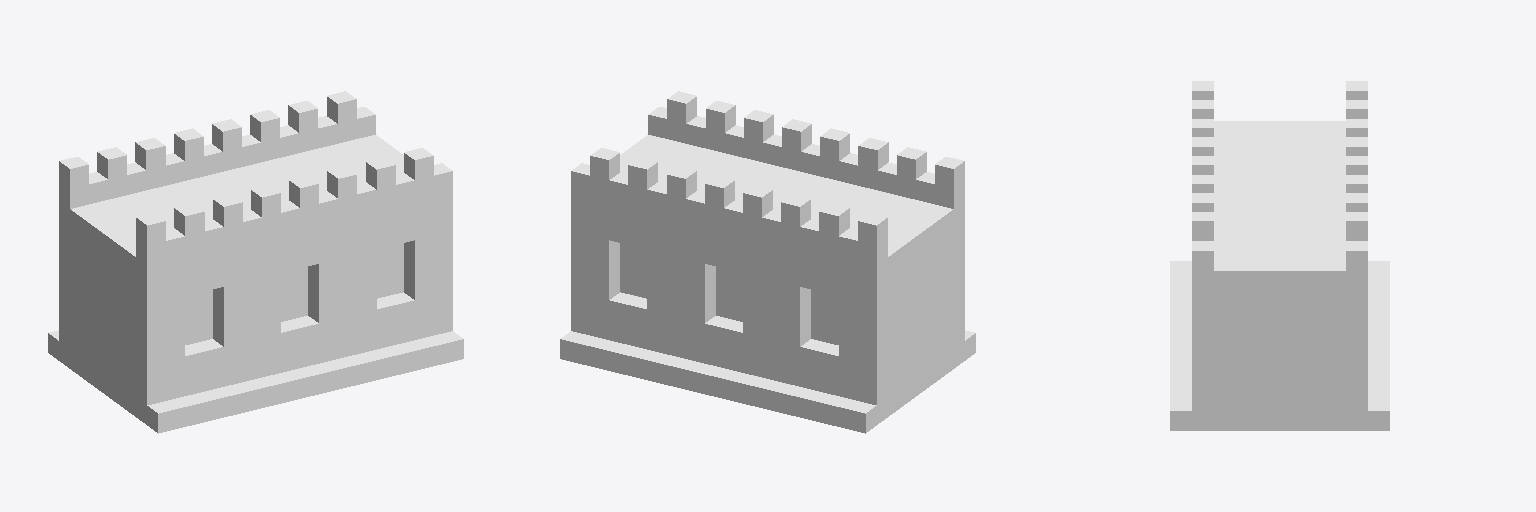
Rendered from WallStraight2.obj.
3 renders of one model, left to right at view 1: azimuth 30°, elevation 25°; view 2: azimuth 150°, elevation 25°; view 3: azimuth 270°, elevation 25°, orthographic.
Parts seen in each view (by area): view 1: WallStraight2; view 2: WallStraight2; view 3: WallStraight2.
Boxes of the visible parts, x1,y1,x2,y2 form: WallStraight2: [48, 91, 463, 433]; WallStraight2: [560, 91, 975, 433]; WallStraight2: [1170, 81, 1389, 430].
Bounding box in the file's own units: 16 × 10 × 10.